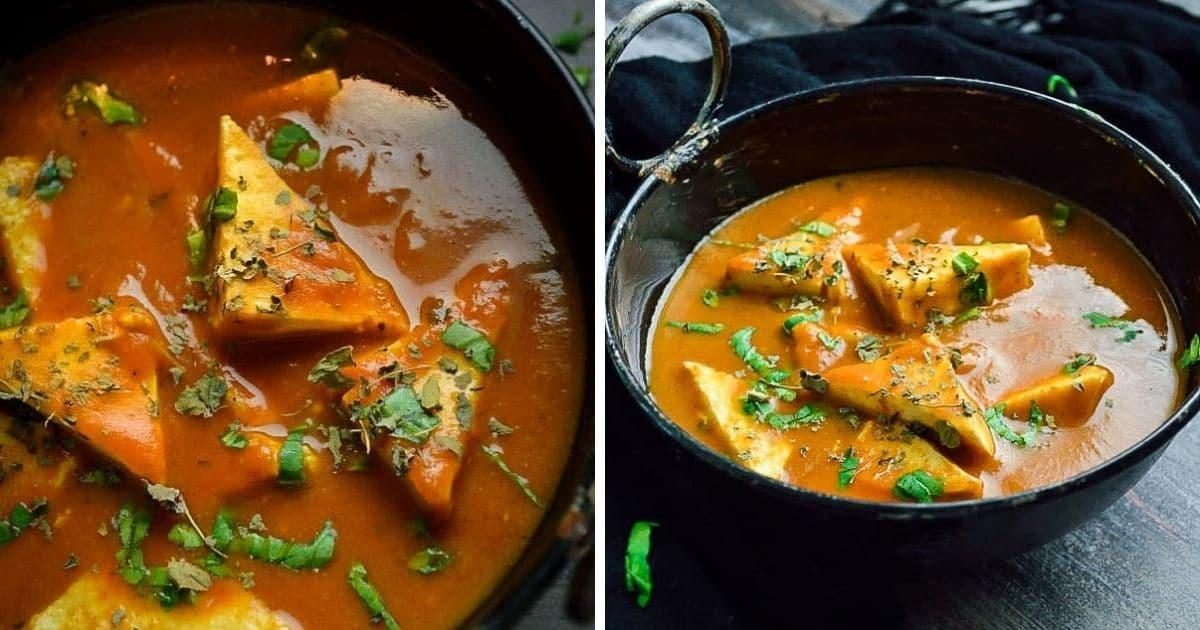paneer: (11, 177, 454, 551), (727, 231, 1067, 452)
